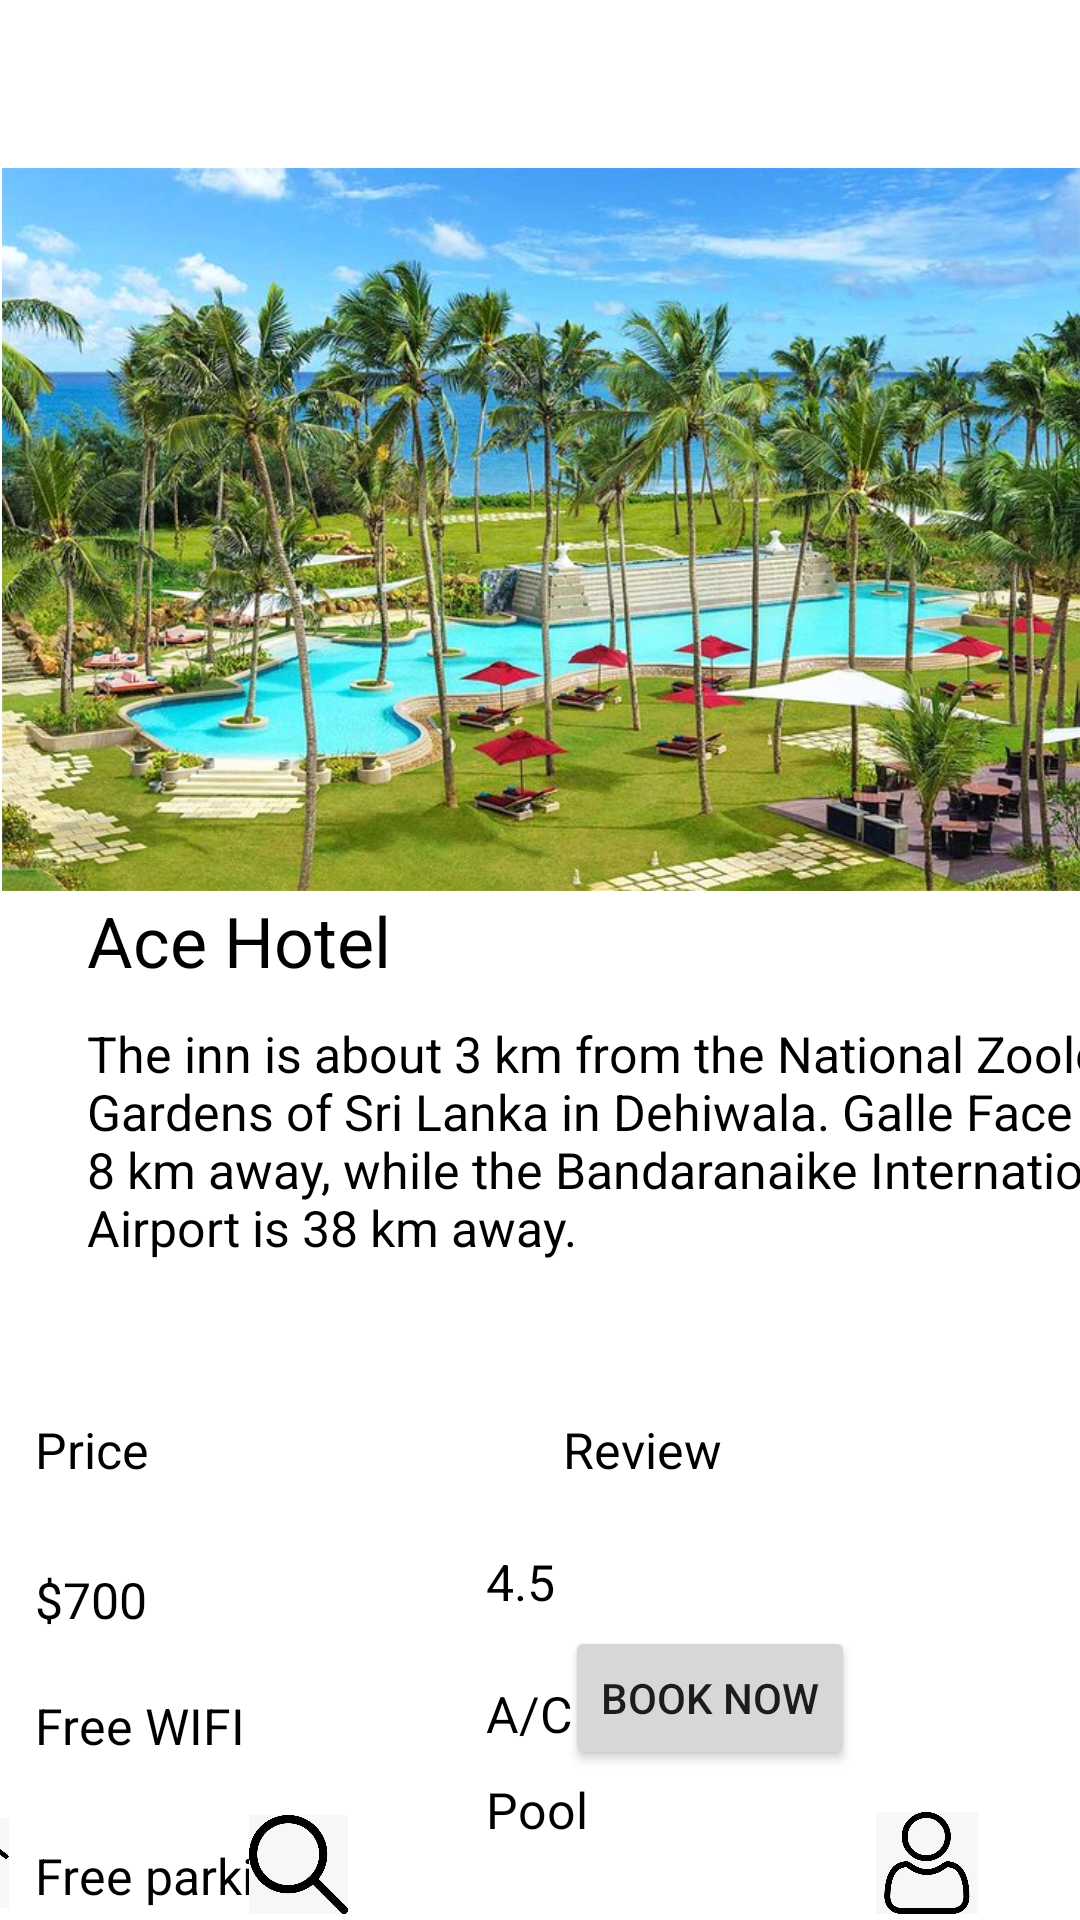

Named icons in this screenshot (1080*1920) and their centers, (x,y):
loupe: (296,1864)
user: (927,1863)
